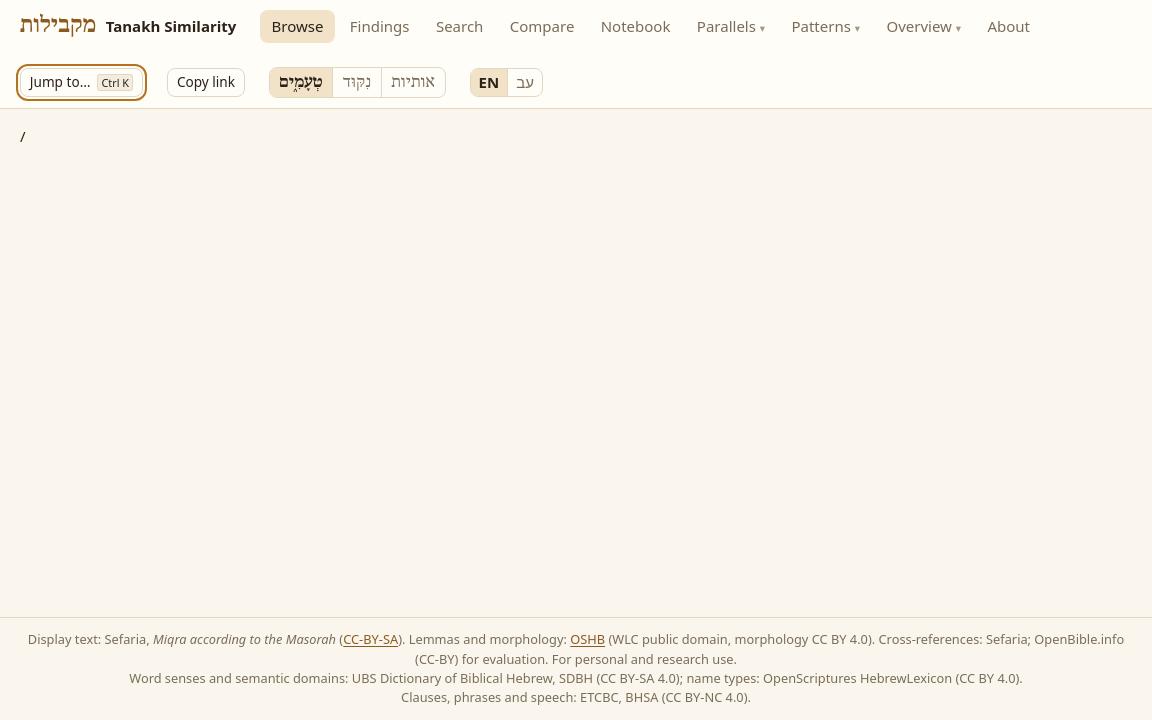
Scenario: JumpBox › finds words and pages, moves with the arrows and closes on Escape
Step 1. Click the button "Jump to… Ctrl K" → x=82, y=83, box [20,68,143,97]
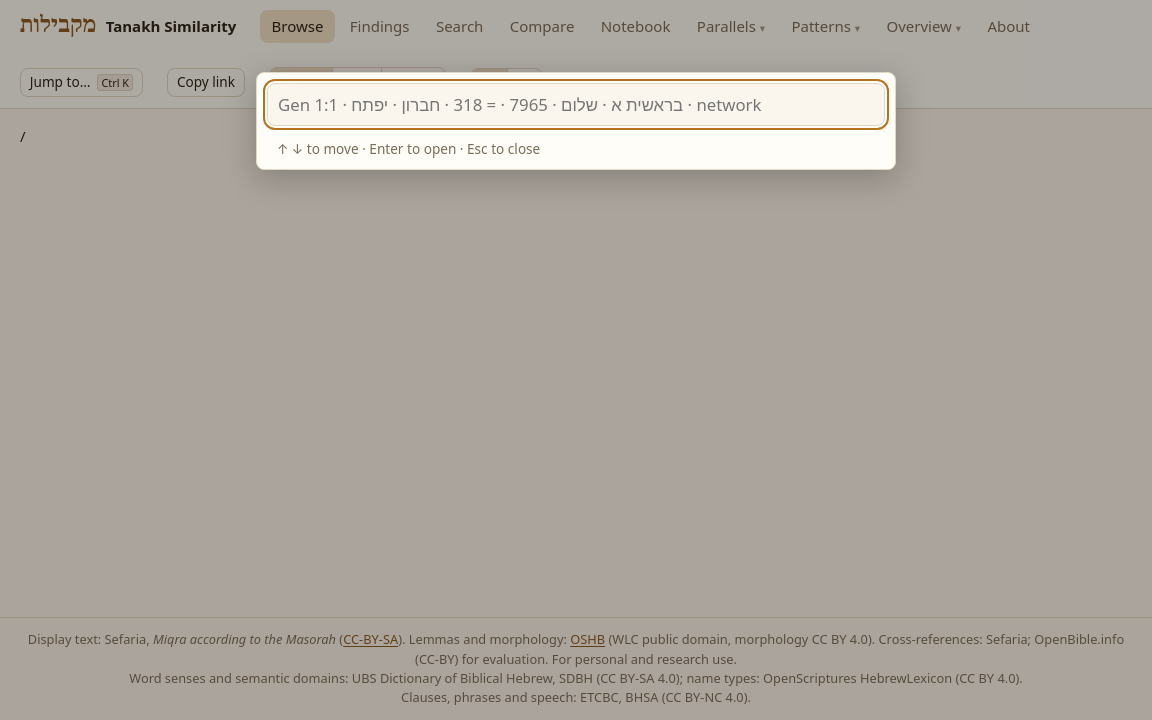
Step 2. Replace the text in the dropdown named "Jump to a passage, a word, a place, a person or a page" with "שלום" → x=576, y=104, box [267,83,885,126]
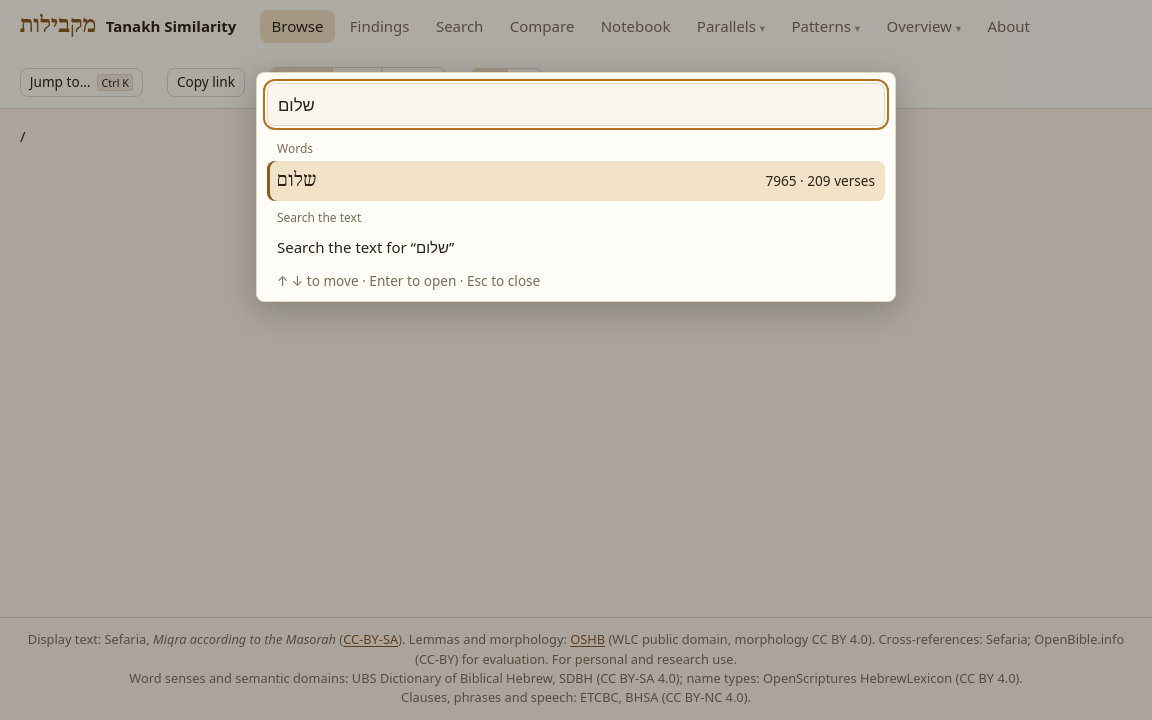
Now the option "שלום 7965 · 209 verses" is shown, box [267,161,885,201]
Step 3. Replace the text in the dropdown named "Jump to a passage, a word, a place, a person or a page" with "netw" → x=576, y=104, box [267,83,885,126]
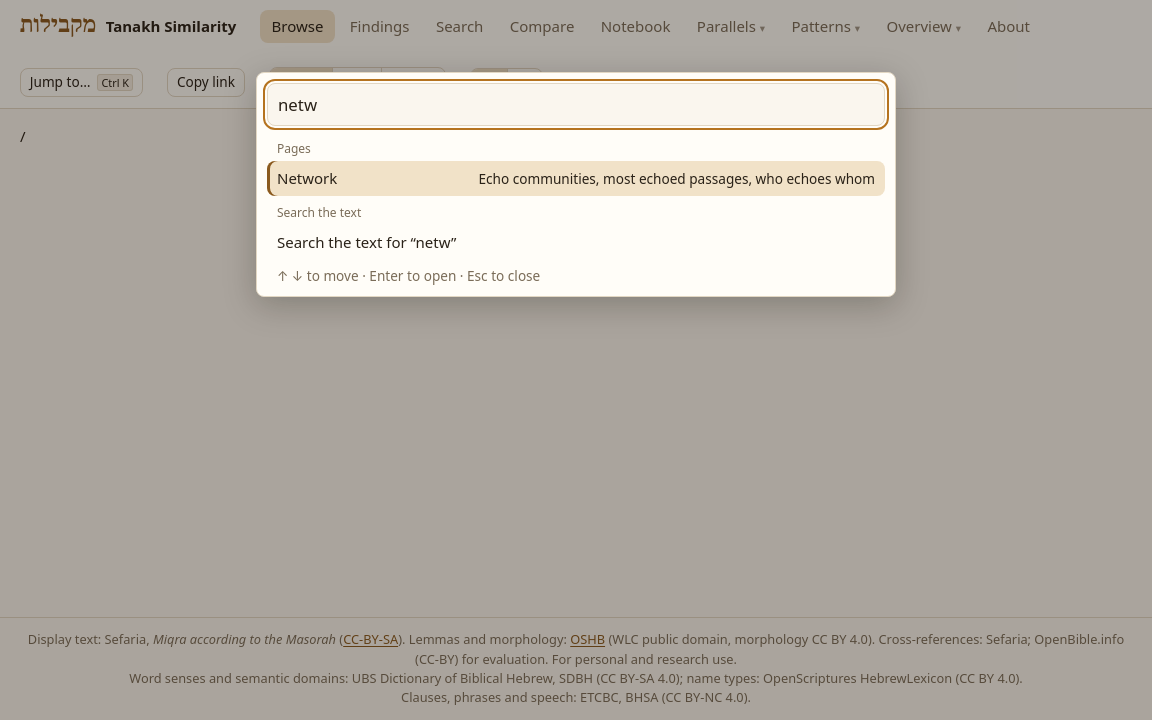
Step 4. Press ArrowDown in the dropdown named "Jump to a passage, a word, a place, a person or a page", box [267,83,885,126]
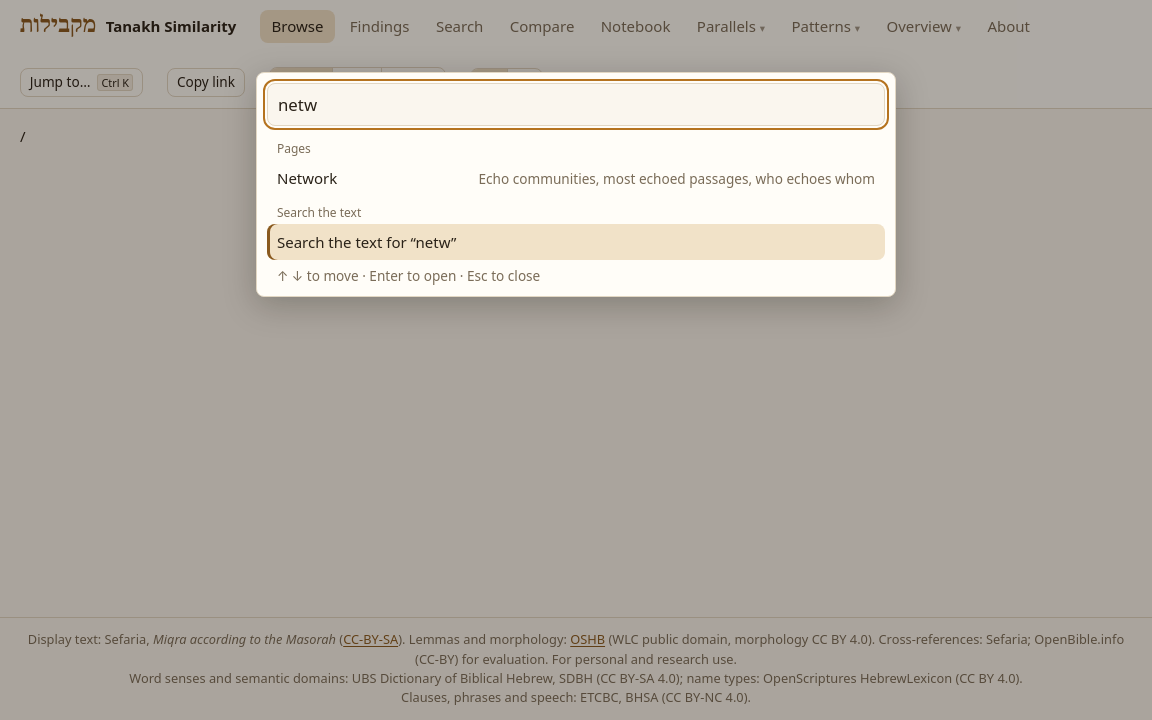
Now the option "Search the text for “netw”" is selected, box [267,224,885,260]
Step 5. Press ArrowDown in the dropdown named "Jump to a passage, a word, a place, a person or a page", box [267,83,885,126]
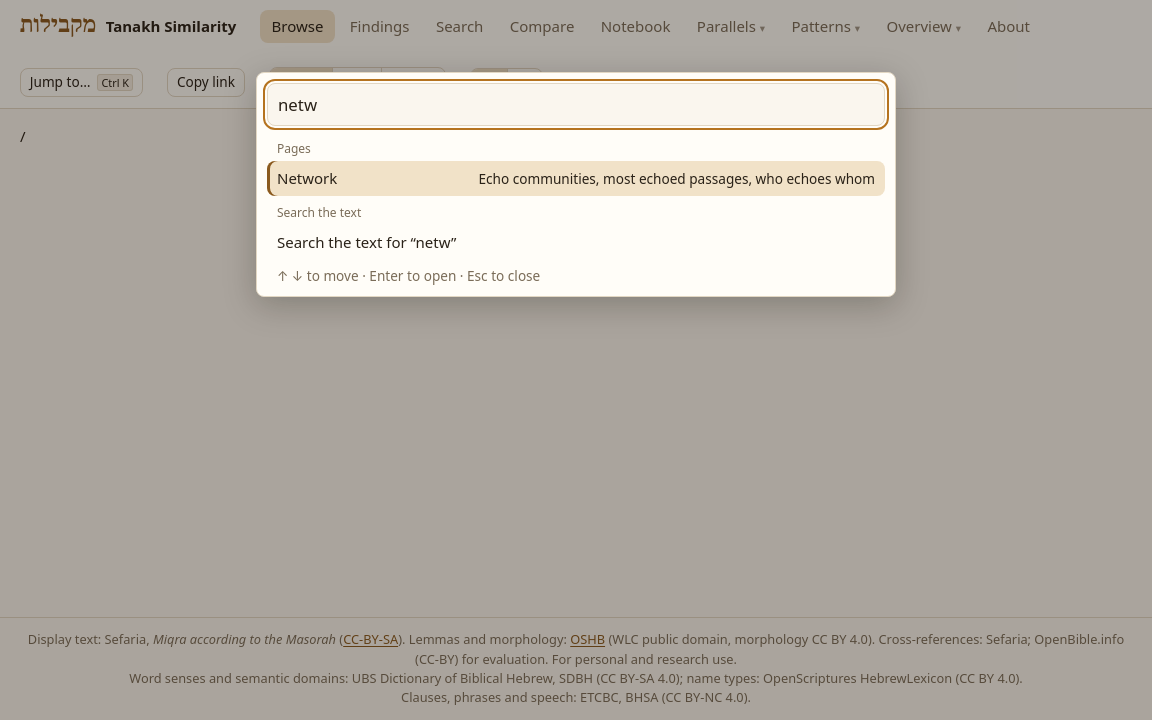
Now the option "Network" is selected, box [267,161,885,196]
Step 6. Press Escape in the dropdown named "Jump to a passage, a word, a place, a person or a page", box [267,83,885,126]
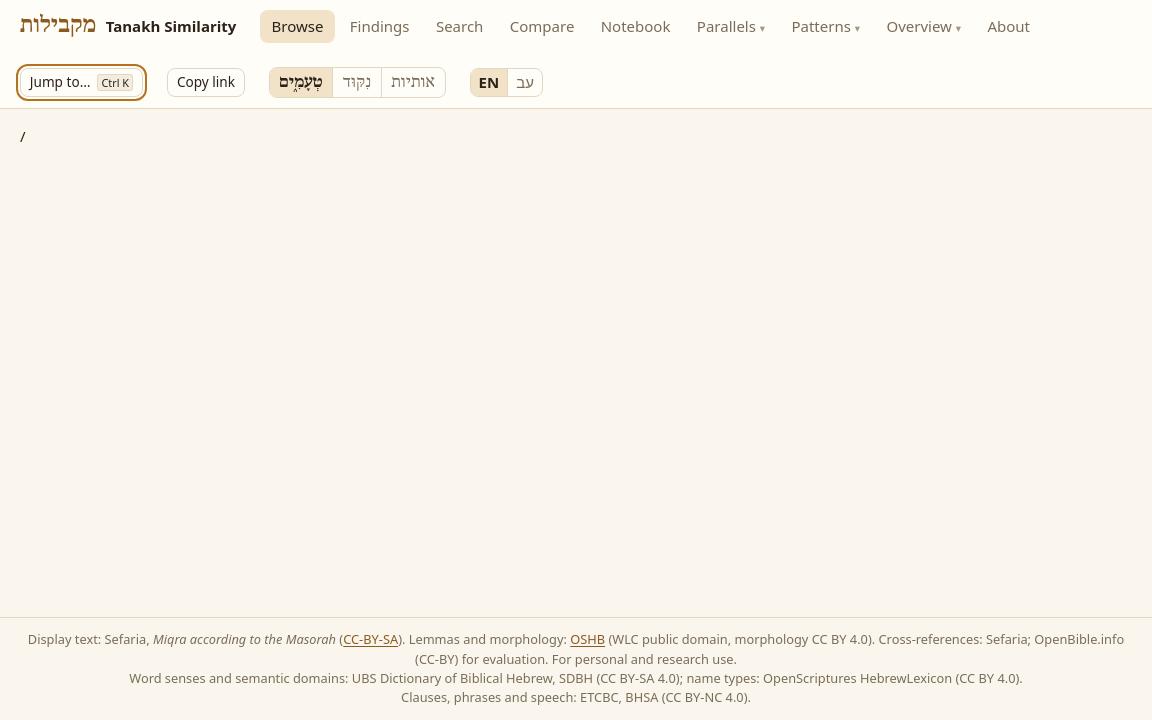
Now the dialog is gone
